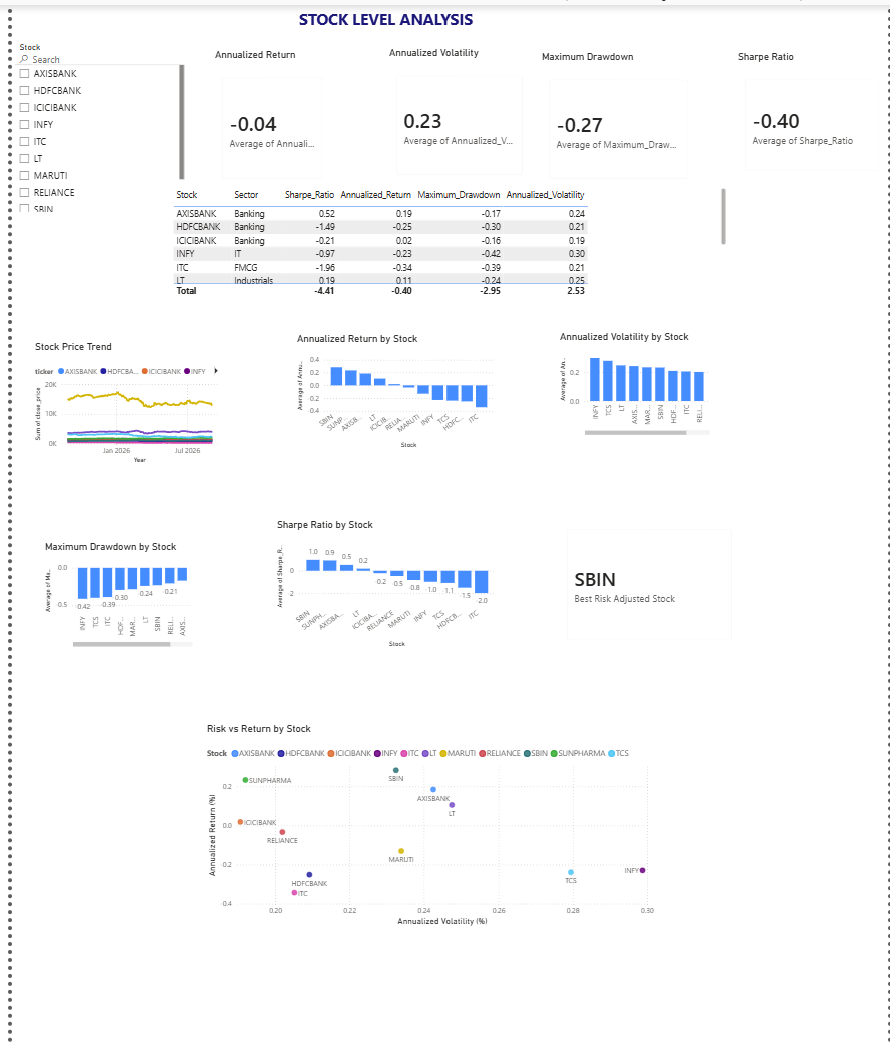

What the dashboard file says about the page in this screenshot:
{"tool":"powerbi","page":{"name":"Stock Analysis","canvas":[1500,1800],"ordinal":1},"visuals":[{"type":"textbox","box":[485.7,0,308.6,57.7],"z":0},{"type":"slicer","fields":{"Values":["stock_summary.Stock"]},"box":[0,56.7,300,300],"z":1000},{"type":"cardVisual","title":"Annualized Return","fields":{"Data":["Avg(stock_summary.Annualized_Return)"]},"box":[343.3,76.7,206.7,240],"z":2000},{"type":"cardVisual","title":"Annualized Volatility","fields":{"Data":["Avg(stock_summary.Annualized_Volatility)"]},"box":[640,73.3,250,236.7],"z":3000},{"type":"cardVisual","title":"Maximum Drawdown","fields":{"Data":["Avg(stock_summary.Maximum_Drawdown)"]},"box":[900,80,273.3,236.7],"z":4000},{"type":"cardVisual","title":"Sharpe Ratio","fields":{"Data":["Avg(stock_summary.Sharpe_Ratio)"]},"box":[1236.7,80,263,223.1],"z":5000},{"type":"tableEx","fields":{"Values":["stock_summary.Stock","stock_summary.Sector","Sum(stock_summary.Sharpe_Ratio)","Sum(stock_summary.Annualized_Return)","Sum(stock_summary.Maximum_Drawdown)","Sum(stock_summary.Annualized_Volatility)"]},"box":[270,310,956.7,196.7],"z":6000},{"type":"lineChart","title":"Stock Price Trend","fields":{"Category":["stock_analysis_data.trade_date.Variation.Date Hierarchy.Year","stock_analysis_data.trade_date.Variation.Date Hierarchy.Quarter","stock_analysis_data.trade_date.Variation.Date Hierarchy.Month","stock_analysis_data.trade_date.Variation.Date Hierarchy.Day"],"Y":["Sum(stock_analysis_data.close_price)"],"Series":["stock_analysis_data.ticker"]},"box":[35,577.5,335,215],"z":7000},{"type":"clusteredColumnChart","title":"Annualized Return by Stock","fields":{"Category":["stock_summary.Stock"],"Y":["Avg(stock_summary.Annualized_Return)"]},"box":[485,562.5,345,202.5],"z":8000},{"type":"clusteredColumnChart","title":"Annualized Volatility by Stock","fields":{"Category":["stock_summary.Stock"],"Y":["Avg(stock_summary.Annualized_Volatility)"]},"box":[932.5,560,267,183],"z":9000},{"type":"clusteredColumnChart","title":"Maximum Drawdown by Stock","fields":{"Category":["stock_summary.Stock"],"Y":["Avg(stock_summary.Maximum_Drawdown)"]},"box":[52.5,920,263,186],"z":10000},{"type":"clusteredColumnChart","title":"Sharpe Ratio by Stock","fields":{"Category":["stock_summary.Stock"],"Y":["Avg(stock_summary.Sharpe_Ratio)"]},"box":[447.5,880,382.5,225],"z":11000},{"type":"cardVisual","fields":{"Data":["stock_summary.Best Risk Adjusted Stock"]},"box":[932.5,880,317.5,225],"z":12000},{"type":"scatterChart","title":"Risk vs Return by Stock","fields":{"X":["stock_summary.Annualized_Volatility"],"Y":["stock_summary.Annualized_Return"],"Series":["stock_summary.Stock"]},"box":[327.5,1232.5,774.9,353.1],"z":13000}]}

Visuals, with their boxes in screenshot pixels (x1, y1, x2, y2), scaled from the page's 1500x1800 canvas onto the 890x1044 screenshot:
textbox: BBox(288, 0, 471, 33)
slicer - stock_summary.Stock: BBox(0, 33, 178, 207)
"Annualized Return" cardVisual: BBox(204, 44, 326, 184)
"Annualized Volatility" cardVisual: BBox(380, 43, 528, 180)
"Maximum Drawdown" cardVisual: BBox(534, 46, 696, 184)
"Sharpe Ratio" cardVisual: BBox(734, 46, 889, 176)
tableEx - stock_summary.Stock x stock_summary.Sector: BBox(160, 180, 728, 294)
"Stock Price Trend" lineChart: BBox(21, 335, 220, 460)
"Annualized Return by Stock" clusteredColumnChart: BBox(288, 326, 492, 444)
"Annualized Volatility by Stock" clusteredColumnChart: BBox(553, 325, 712, 431)
"Maximum Drawdown by Stock" clusteredColumnChart: BBox(31, 534, 187, 641)
"Sharpe Ratio by Stock" clusteredColumnChart: BBox(266, 510, 492, 641)
cardVisual - stock_summary.Best Risk Adjusted Stock: BBox(553, 510, 742, 641)
"Risk vs Return by Stock" scatterChart: BBox(194, 715, 654, 920)
